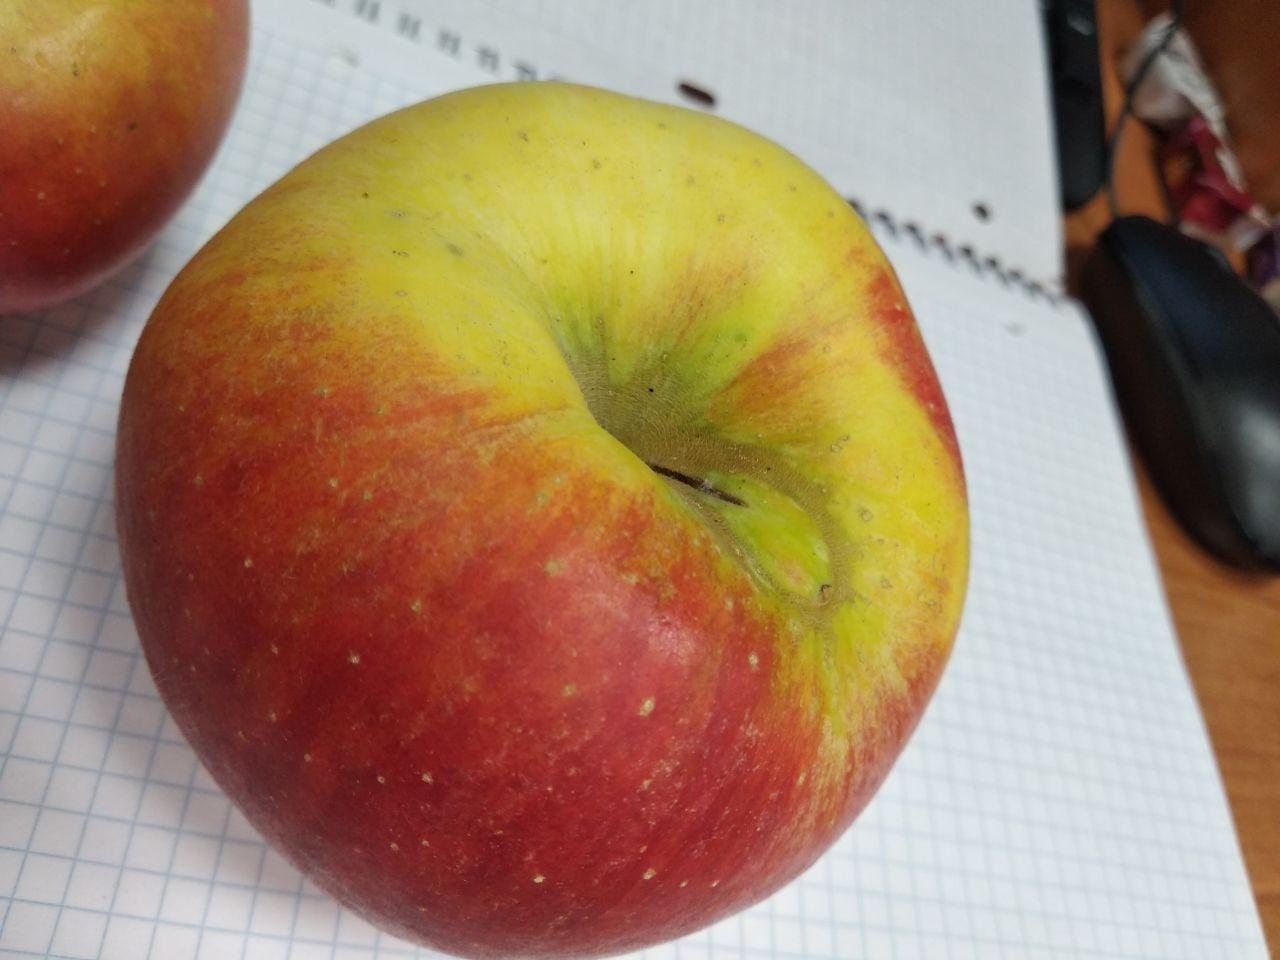Apple: (112, 78, 974, 960)
